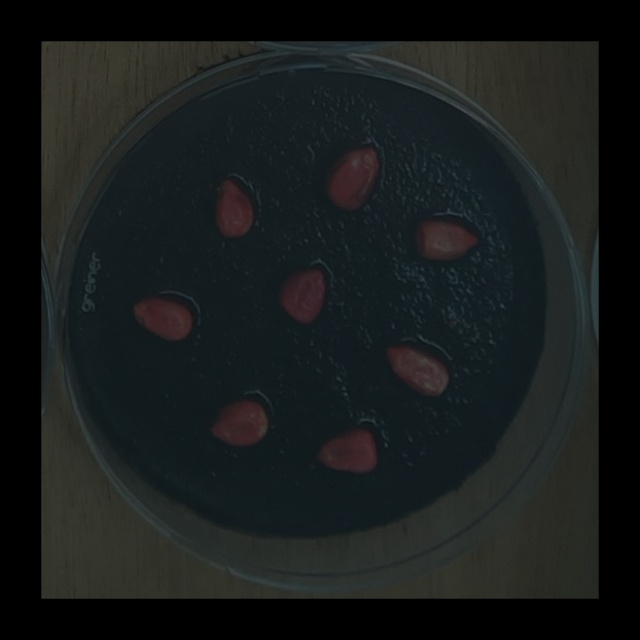Zea mays: (318, 140, 386, 218), (378, 339, 455, 404), (203, 391, 276, 454), (309, 421, 384, 481), (124, 288, 199, 347), (408, 212, 484, 267), (272, 261, 331, 331), (209, 173, 259, 246)
